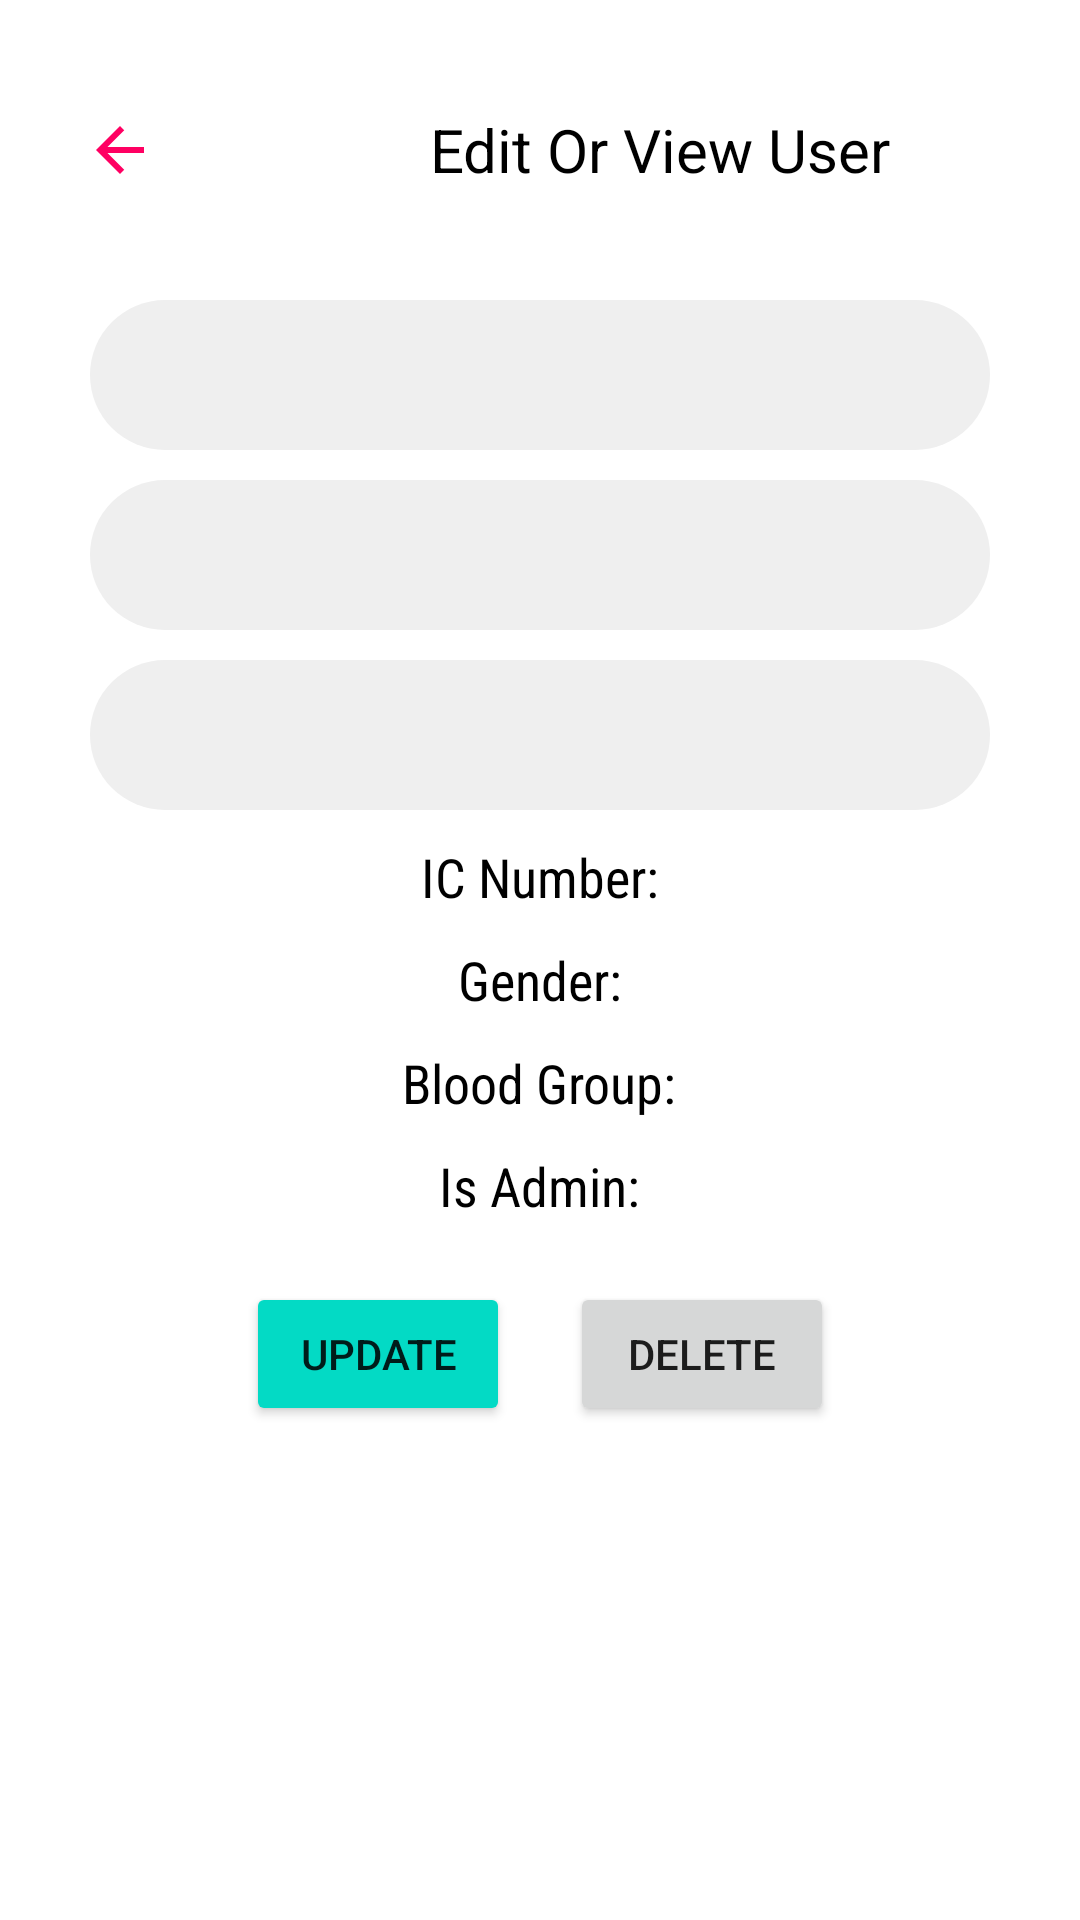

Icons on this 1080w x 1920h Android screen, each with the point to tap as point (x, y):
backbtn: point (120, 150)
